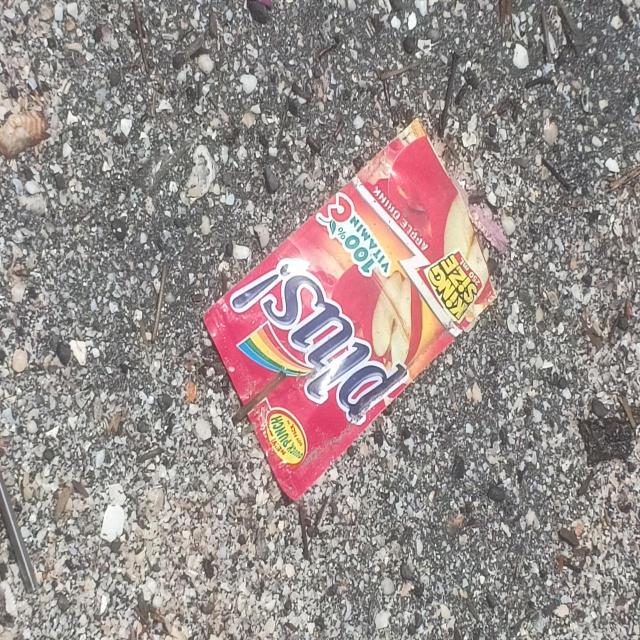plastic_waste: (206, 117, 500, 504)
